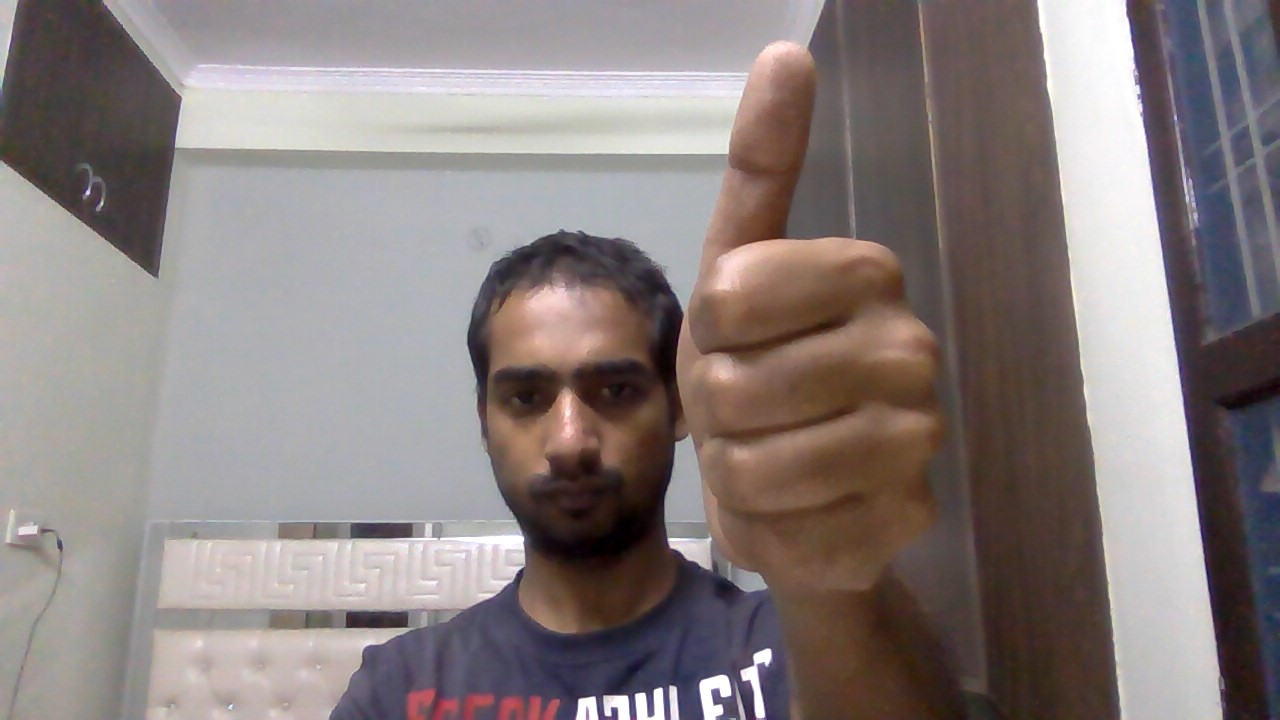Save: (659, 25, 969, 603)
